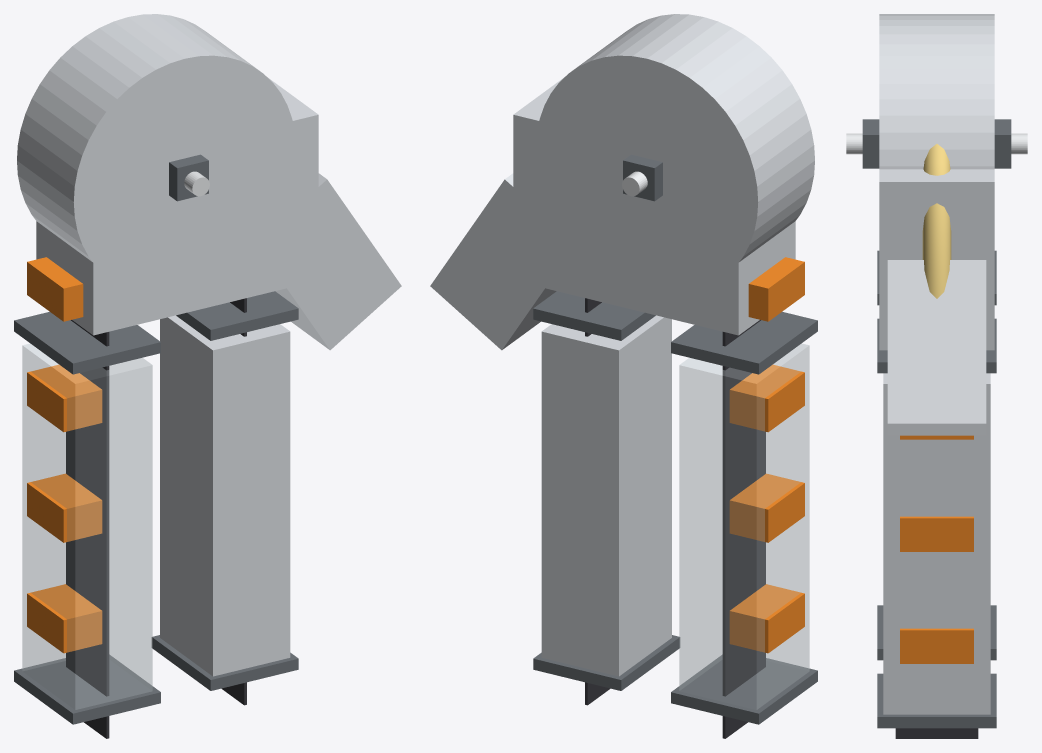
The model's file is elevator_slice.glb.
The picture shows the model from 3 angles, left to right: view 1: azimuth 30°, elevation 25°; view 2: azimuth 150°, elevation 25°; view 3: azimuth 270°, elevation 25°; orthographic projection.
Visible parts, largest first — view 1: Casing_Trunking_DownLeg, Casing_Trunking_UpLeg, Casing_Head_SplitHood_Removable, Casing_Head_Lower_With_Saddle, Discharge_Spout_Centrifugal, Belt_Run_UpLeg, Angle_Flange_Joint_-0.20_0.60, Angle_Flange_Joint_-0.20_1.55, Bucket_Deep_Inst_01, Bucket_Deep_Inst_02, Bucket_Deep_Inst_03, Angle_Flange_Joint_+0.20_1.55 (+3 smaller); view 2: Casing_Head_SplitHood_Removable, Casing_Trunking_DownLeg, Casing_Trunking_UpLeg, Casing_Head_Lower_With_Saddle, Discharge_Spout_Centrifugal, Belt_Run_UpLeg, Angle_Flange_Joint_-0.20_0.60, Angle_Flange_Joint_-0.20_1.55, Bucket_Deep_Inst_01, Bucket_Deep_Inst_02, Bucket_Deep_Inst_03, Angle_Flange_Joint_+0.20_1.55 (+3 smaller); view 3: Casing_Trunking_DownLeg, Casing_Head_SplitHood_Removable, Discharge_Spout_Centrifugal, Casing_Head_Lower_With_Saddle, Grain_Flow_Centrifugal_Stream, Bucket_Deep_Inst_09, Bucket_Deep_Inst_10, Angle_Flange_Joint_+0.20_0.60, Belt_Run_DownLeg, Bearing_PillowBlock_L, Bearing_PillowBlock_R, Angle_Flange_Joint_-0.20_0.60 (+4 smaller).
Boxes of the visible parts, x1,y1,x2,y2 form: Casing_Trunking_DownLeg: (160,315,290,676); Casing_Trunking_UpLeg: (22,343,152,709); Casing_Head_SplitHood_Removable: (17,14,295,294); Casing_Head_Lower_With_Saddle: (36,78,318,335); Discharge_Spout_Centrifugal: (275,173,401,350); Belt_Run_UpLeg: (66,320,109,738); Angle_Flange_Joint_-0.20_0.60: (14,654,160,724); Angle_Flange_Joint_-0.20_1.55: (14,311,160,374); Bucket_Deep_Inst_01: (27,584,102,653); Bucket_Deep_Inst_02: (27,473,102,542); Bucket_Deep_Inst_03: (27,364,102,432); Angle_Flange_Joint_+0.20_1.55: (176,291,298,340); Casing_Head_SplitHood_Removable: (536,14,814,294); Casing_Trunking_DownLeg: (541,315,671,676); Casing_Trunking_UpLeg: (679,343,809,709); Casing_Head_Lower_With_Saddle: (513,78,795,335); Discharge_Spout_Centrifugal: (430,173,556,350); Belt_Run_UpLeg: (722,320,765,738); Angle_Flange_Joint_-0.20_0.60: (671,654,817,724); Angle_Flange_Joint_-0.20_1.55: (671,311,817,374); Bucket_Deep_Inst_01: (729,584,804,653); Bucket_Deep_Inst_02: (729,473,804,542); Bucket_Deep_Inst_03: (729,364,804,432); Angle_Flange_Joint_+0.20_1.55: (533,291,655,340); Casing_Trunking_DownLeg: (883,373,990,714); Casing_Head_SplitHood_Removable: (879,14,994,169); Discharge_Spout_Centrifugal: (887,260,986,435); Casing_Head_Lower_With_Saddle: (879,169,994,350); Grain_Flow_Centrifugal_Stream: (922,144,951,298); Bucket_Deep_Inst_09: (900,516,973,551); Bucket_Deep_Inst_10: (900,628,973,663); Angle_Flange_Joint_+0.20_0.60: (877,673,996,728); Belt_Run_DownLeg: (895,728,978,738); Bearing_PillowBlock_L: (862,119,879,168); Bearing_PillowBlock_R: (994,119,1011,168); Angle_Flange_Joint_-0.20_0.60: (877,605,996,660).
Size of the model in its own units: 0.9482 by 1.82 by 0.44.
